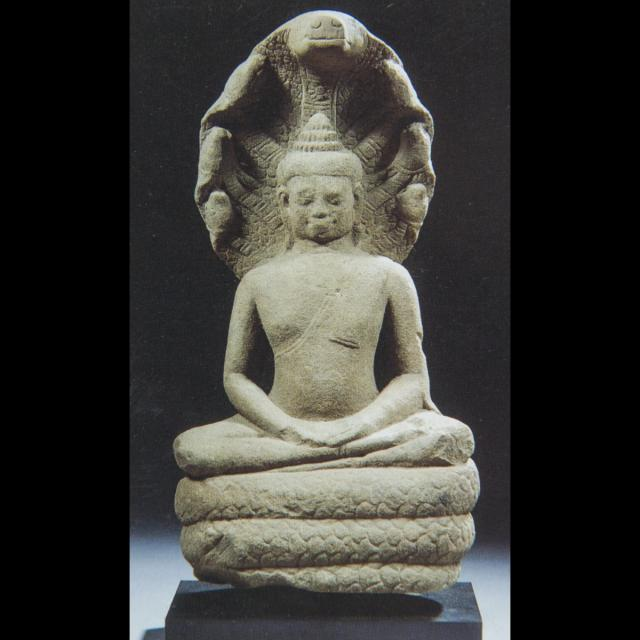buddha-sitting: (175, 12, 476, 592)
